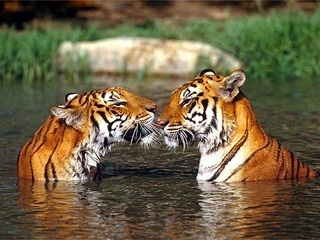tigre: (157, 68, 318, 184), (15, 85, 158, 184)
